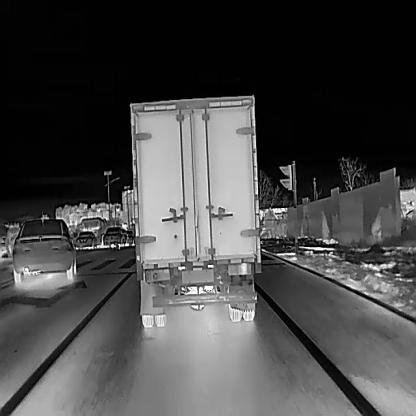bus: (77, 215, 110, 248)
car: (10, 210, 76, 283), (102, 225, 128, 249), (74, 230, 96, 249)
truck: (130, 94, 262, 328)
